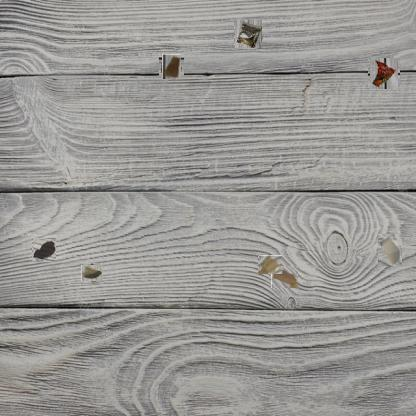dirty: (369, 58, 399, 88), (234, 20, 262, 48), (378, 234, 402, 266), (271, 266, 298, 288), (160, 55, 183, 78), (83, 264, 101, 283)
liquid: (32, 238, 56, 262), (258, 255, 282, 274)
